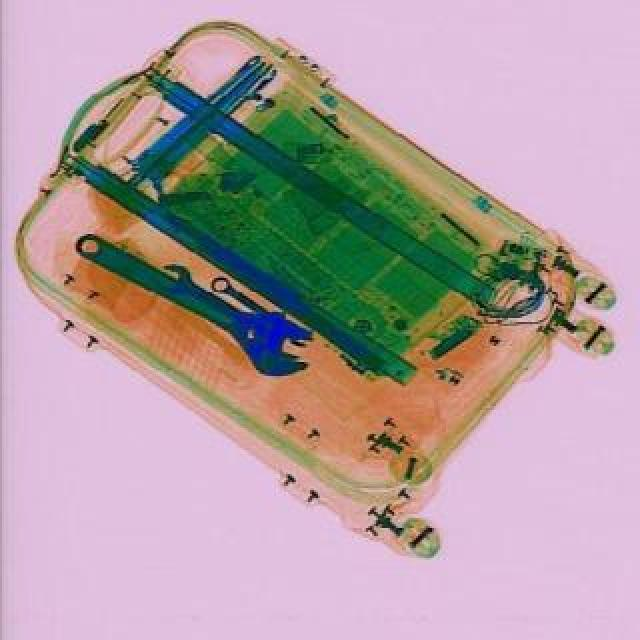scissors: (58, 214, 326, 394), (206, 274, 314, 354), (148, 260, 252, 336)
